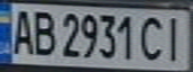1: (115, 11, 139, 61)
2: (57, 9, 81, 58)
3: (97, 11, 118, 60)
9: (78, 10, 100, 60)
A: (6, 6, 39, 56)
B: (27, 7, 57, 57)
C: (139, 12, 169, 62)
I: (160, 12, 190, 63)
